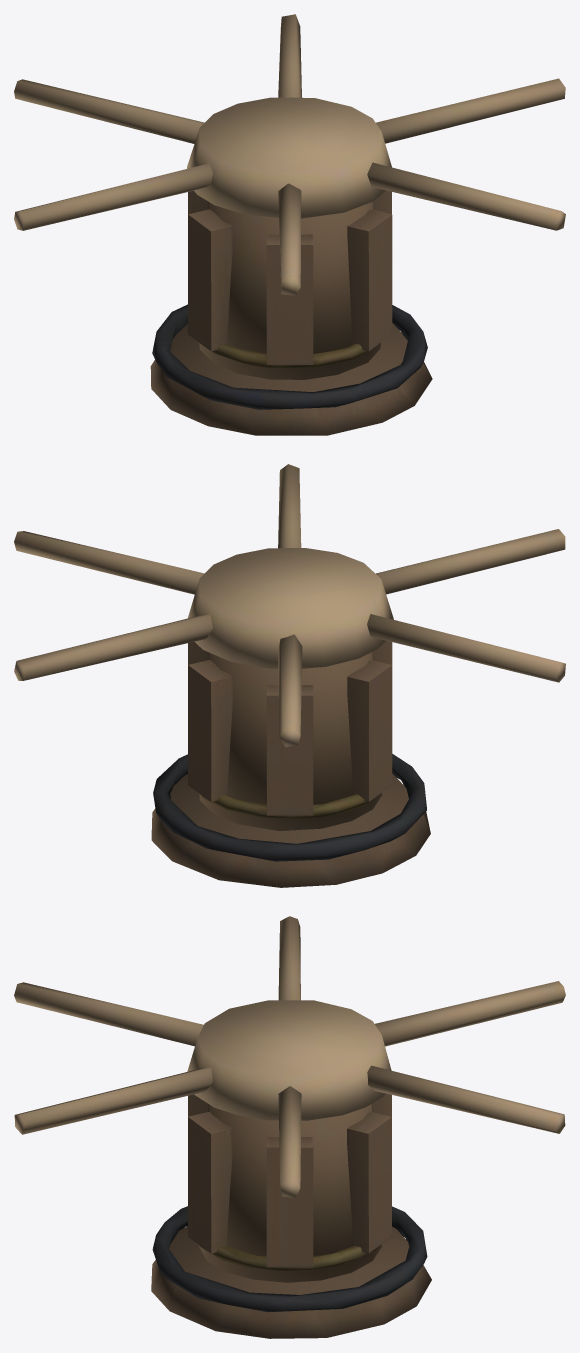
The model's file is capstan_far.27efcb08.glb.
The picture shows the model from 3 angles, top to bottom: view 1: azimuth 30°, elevation 25°; view 2: azimuth 150°, elevation 25°; view 3: azimuth 270°, elevation 25°; orthographic projection.
Visible parts, largest first — view 1: drum, capstan_body; view 2: drum, capstan_body; view 3: drum, capstan_body.
Part boxes in pixels (left/top/right/bottom): drum: left=14, top=14, right=565, bottom=379; capstan_body: left=150, top=304, right=432, bottom=435; drum: left=14, top=464, right=565, bottom=830; capstan_body: left=151, top=754, right=430, bottom=887; drum: left=14, top=916, right=565, bottom=1282; capstan_body: left=151, top=1206, right=431, bottom=1338.
Bounding box in the file's own units: 2.04 × 0.87 × 1.8.
Materials: 1 (1 with a texture image).
